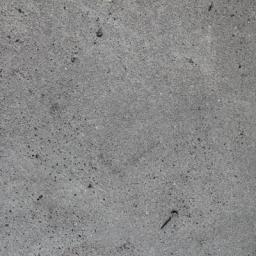FOD: (161, 210, 180, 232)
